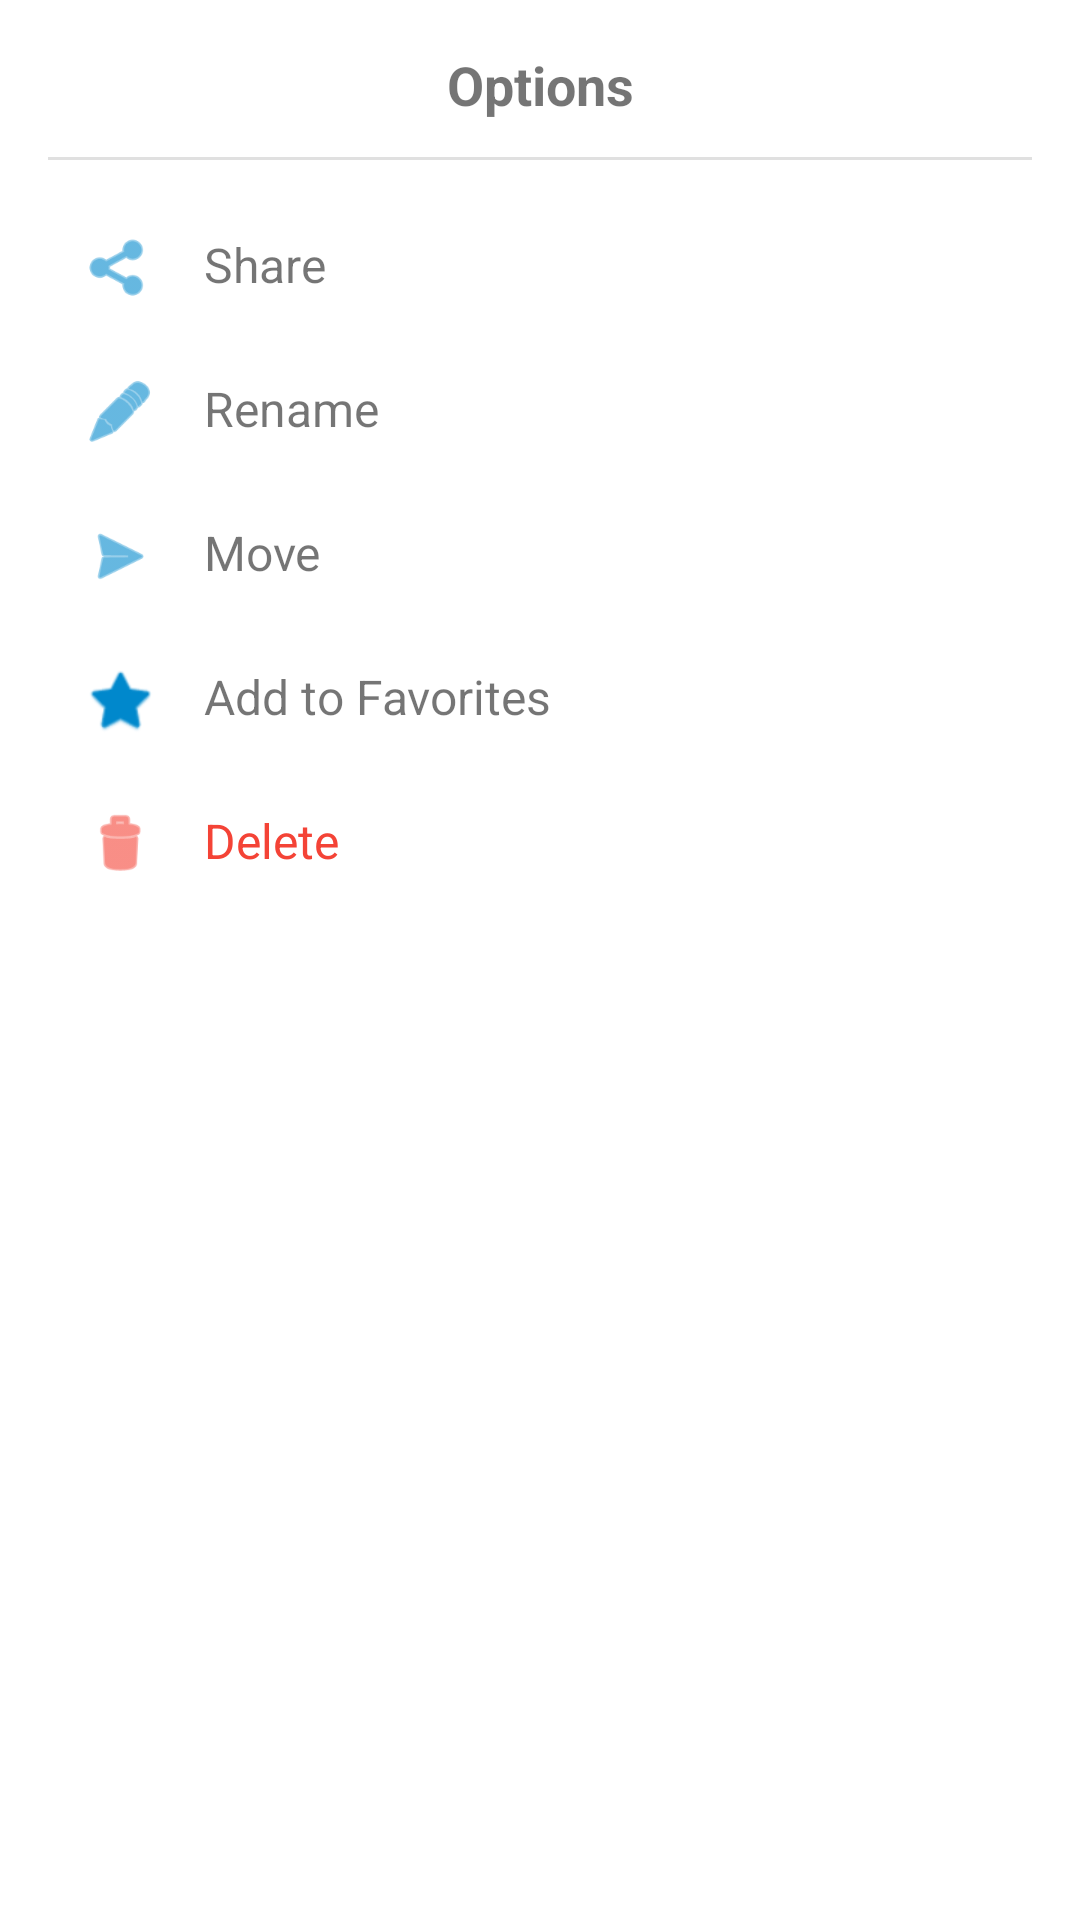

Icons on this 1080x1920 Android screen, each with the point to tap as point (x, y):
edit: point (119, 411)
send: point (120, 556)
star on: point (120, 700)
